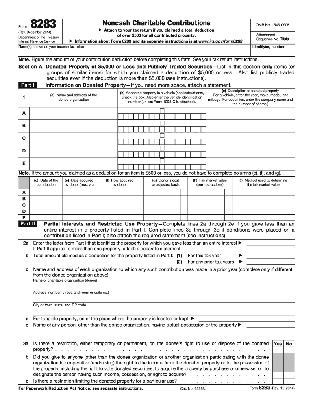checkbox: (282, 345, 296, 355), (282, 376, 296, 386), (271, 370, 285, 379), (282, 370, 296, 379), (271, 377, 284, 386), (271, 346, 284, 353), (159, 157, 165, 164), (159, 120, 165, 126), (159, 145, 165, 151), (158, 133, 165, 138), (159, 108, 165, 113)
textbox: (17, 42, 251, 58), (204, 103, 296, 122), (202, 142, 299, 160), (203, 129, 298, 147), (204, 155, 299, 172), (27, 130, 120, 147), (27, 154, 119, 171), (26, 143, 121, 159), (203, 118, 296, 134), (28, 118, 120, 134), (28, 105, 118, 121), (248, 40, 296, 58), (231, 206, 297, 216), (230, 188, 296, 197), (231, 213, 297, 222), (230, 194, 295, 203), (231, 201, 296, 209), (94, 187, 145, 197), (94, 193, 145, 203), (186, 187, 234, 197), (185, 193, 233, 203), (142, 187, 189, 197), (142, 206, 189, 216), (186, 200, 233, 210), (94, 206, 145, 215), (94, 213, 145, 222), (141, 194, 190, 203), (142, 200, 189, 209), (142, 213, 189, 222), (186, 206, 233, 215), (186, 213, 233, 222), (94, 201, 145, 209), (28, 194, 64, 204), (28, 200, 64, 210), (61, 187, 97, 197), (28, 188, 65, 197), (28, 213, 64, 222), (61, 194, 97, 203), (61, 213, 97, 222), (28, 207, 65, 215), (61, 207, 98, 215), (61, 201, 97, 209), (183, 111, 192, 121), (147, 110, 155, 121), (153, 110, 160, 122), (173, 125, 182, 134), (121, 111, 129, 121), (126, 111, 134, 121), (163, 111, 171, 121), (199, 111, 207, 121), (132, 112, 140, 121), (137, 112, 145, 121), (168, 112, 176, 121), (179, 112, 187, 121), (194, 112, 202, 121), (121, 162, 129, 171), (137, 137, 145, 146), (137, 162, 145, 171), (158, 162, 166, 171), (163, 137, 171, 146), (184, 137, 192, 146), (184, 150, 192, 159), (184, 162, 192, 171), (189, 137, 197, 146), (199, 138, 207, 147), (143, 111, 150, 121), (173, 112, 181, 120), (189, 112, 197, 120), (121, 137, 129, 145), (126, 150, 134, 158), (132, 125, 140, 133), (137, 125, 145, 133), (148, 125, 156, 133), (163, 150, 171, 158), (163, 163, 171, 171), (173, 163, 181, 171), (184, 125, 192, 133), (189, 125, 197, 133), (189, 150, 197, 158), (189, 163, 197, 171), (127, 137, 134, 146), (127, 162, 134, 171), (132, 137, 139, 146), (132, 162, 139, 171), (143, 137, 150, 146), (143, 162, 150, 171), (148, 162, 155, 171), (153, 125, 160, 134), (153, 137, 160, 146), (153, 162, 160, 171), (169, 137, 176, 146), (174, 150, 181, 159), (179, 137, 186, 146), (200, 125, 207, 134), (117, 112, 124, 120), (158, 112, 165, 120), (116, 126, 124, 133), (117, 137, 124, 145), (117, 150, 124, 158), (117, 163, 124, 171), (122, 125, 129, 133), (122, 150, 129, 158), (127, 125, 134, 133), (132, 150, 139, 158), (138, 150, 145, 158), (143, 125, 150, 133), (143, 150, 150, 158), (148, 137, 155, 145), (148, 150, 155, 158), (153, 150, 160, 158), (158, 125, 165, 133), (158, 137, 165, 145), (158, 150, 165, 158), (163, 125, 171, 132), (169, 125, 176, 133), (169, 150, 176, 158), (169, 163, 176, 171), (174, 138, 181, 146), (179, 125, 186, 133), (179, 150, 186, 158), (195, 125, 202, 133), (195, 137, 202, 145), (195, 150, 202, 158), (195, 163, 202, 171), (200, 150, 207, 158), (200, 163, 207, 171), (180, 163, 186, 171)
textline: (31, 307, 300, 316), (32, 327, 299, 336), (30, 295, 298, 303), (32, 282, 297, 290), (199, 314, 299, 323), (245, 240, 295, 247), (246, 253, 295, 260), (245, 323, 297, 329), (245, 260, 296, 266)
